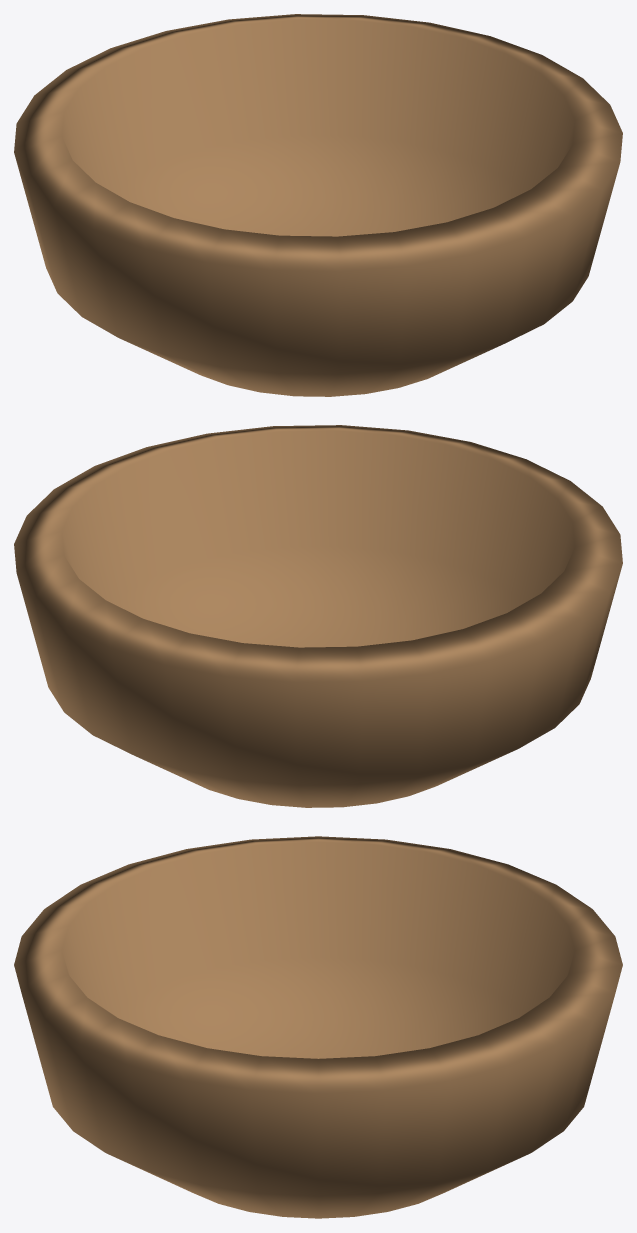
The model's file is split_coconut_shell_tropical_island_and_palm_trees_6808.glb.
The picture shows the model from 3 angles, top to bottom: view 1: azimuth 30°, elevation 25°; view 2: azimuth 150°, elevation 25°; view 3: azimuth 270°, elevation 25°; orthographic projection.
Visible parts, largest first — view 1: coconut-open; view 2: coconut-open; view 3: coconut-open.
Boxes of the visible parts, box(x1,y1,x2,y2) form: coconut-open: box(14, 14, 622, 396); coconut-open: box(14, 425, 622, 807); coconut-open: box(14, 836, 622, 1218).
Bounding box in the file's own units: 0.38 × 0.15 × 0.38.
